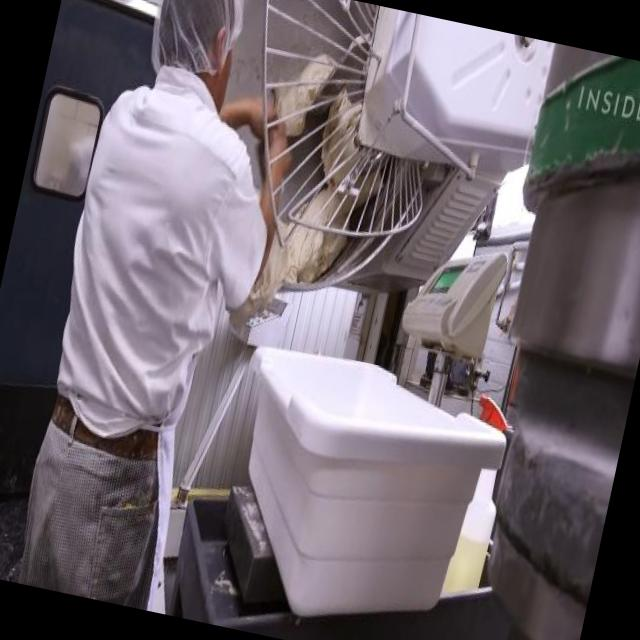hairnet: (153, 0, 244, 51)
